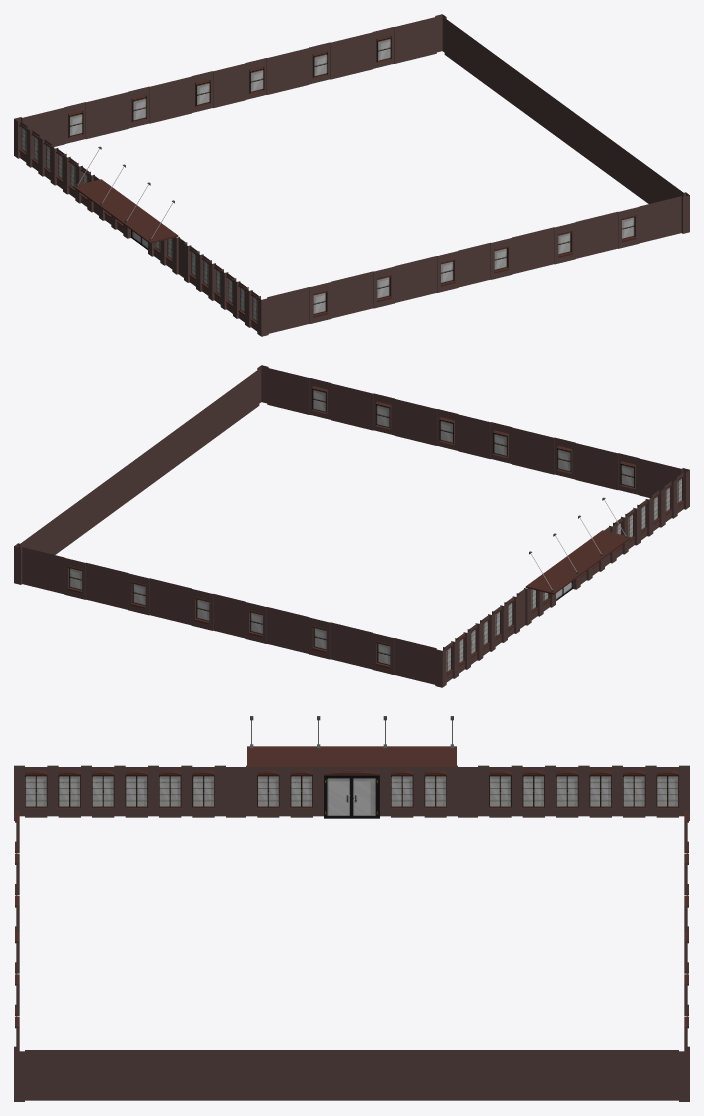
The model's file is BuildingBig1_1.fbx.
3 renders of one model, top to bottom at view 1: azimuth 30°, elevation 25°; view 2: azimuth 150°, elevation 25°; view 3: azimuth 270°, elevation 25°, orthographic. The views are drawn at different scales.
Visible parts, largest first — view 1: BuildingBig1_2.011; view 2: BuildingBig1_2.011; view 3: BuildingBig1_2.011.
Boxes of the visible parts, x1,y1,x2,y2 form: BuildingBig1_2.011: (14, 14, 689, 336); BuildingBig1_2.011: (14, 365, 689, 687); BuildingBig1_2.011: (14, 716, 689, 1101).
Size of the model in its own units: 6430 by 978 by 6060.
